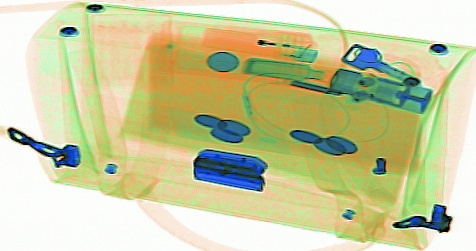lighter: (200, 25, 319, 65)
